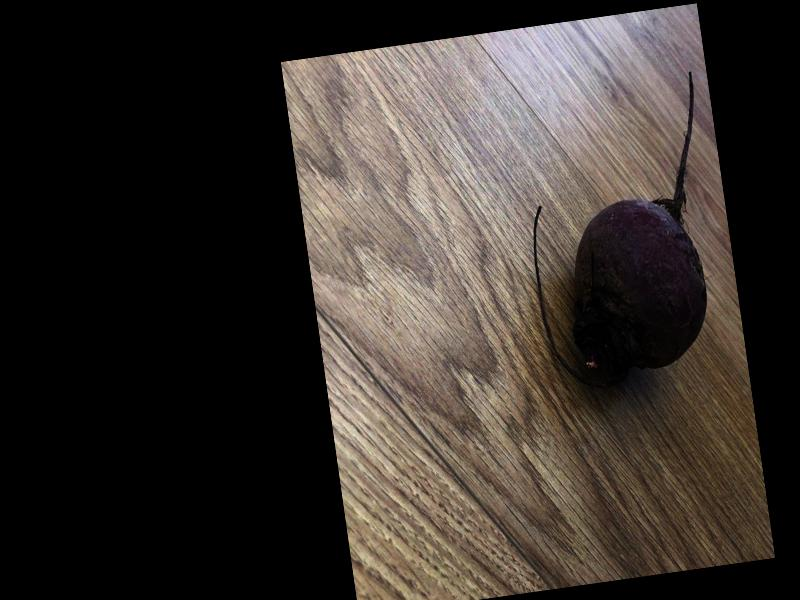Beet: (510, 70, 733, 391)
